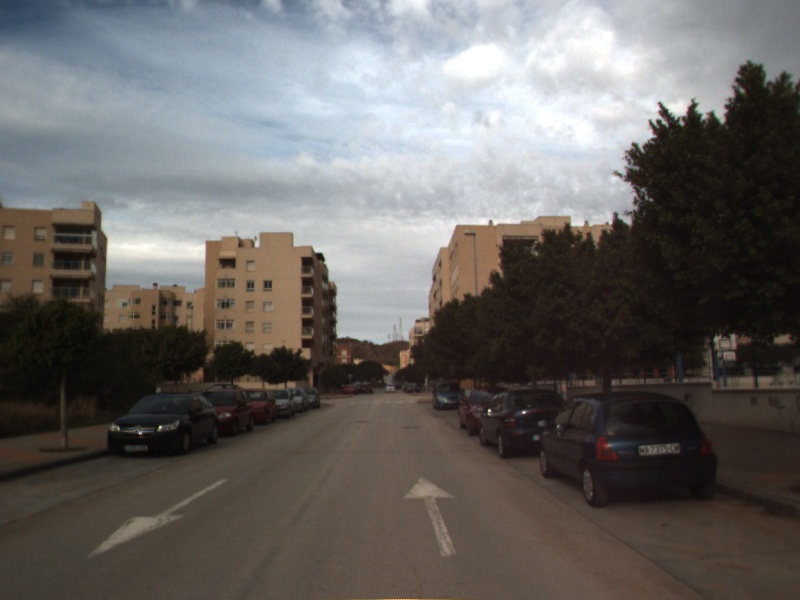STRAIGHT: (401, 473, 460, 559)
